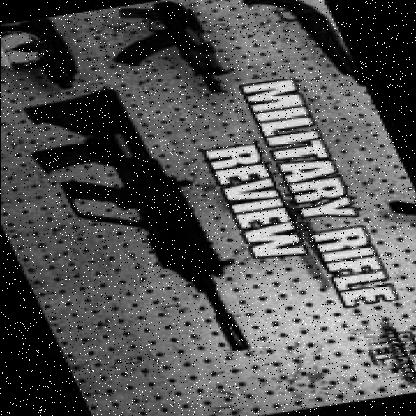rifle: (10, 88, 270, 372)
